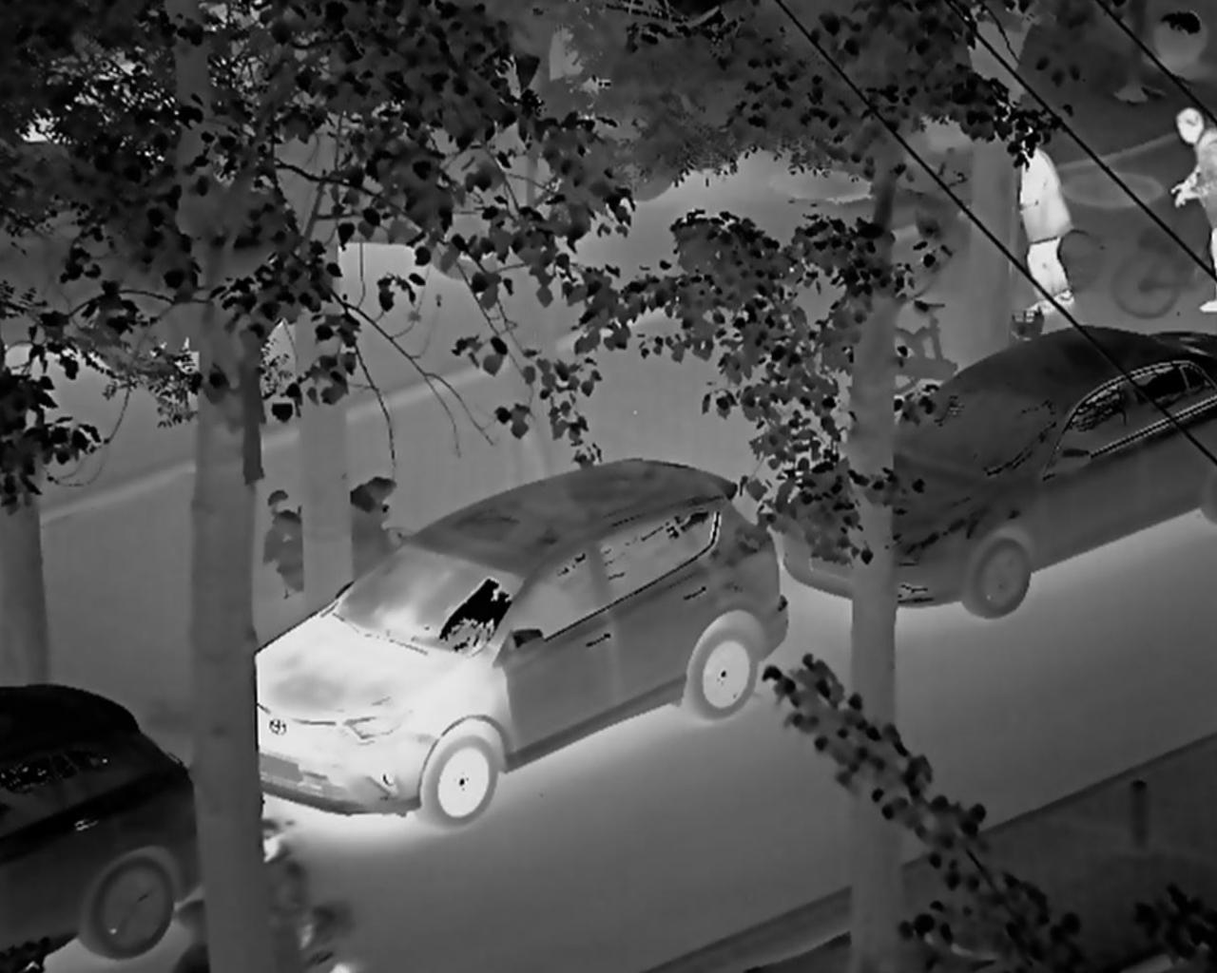person: (1005, 110, 1087, 325), (1149, 79, 1217, 330), (238, 808, 327, 965)
